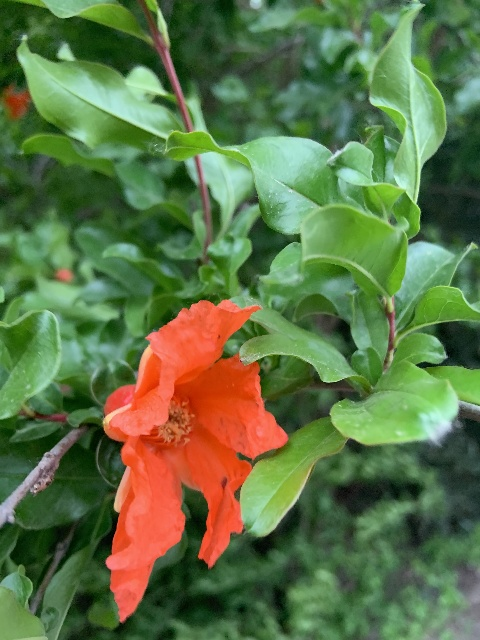flower: (100, 293, 289, 616)
